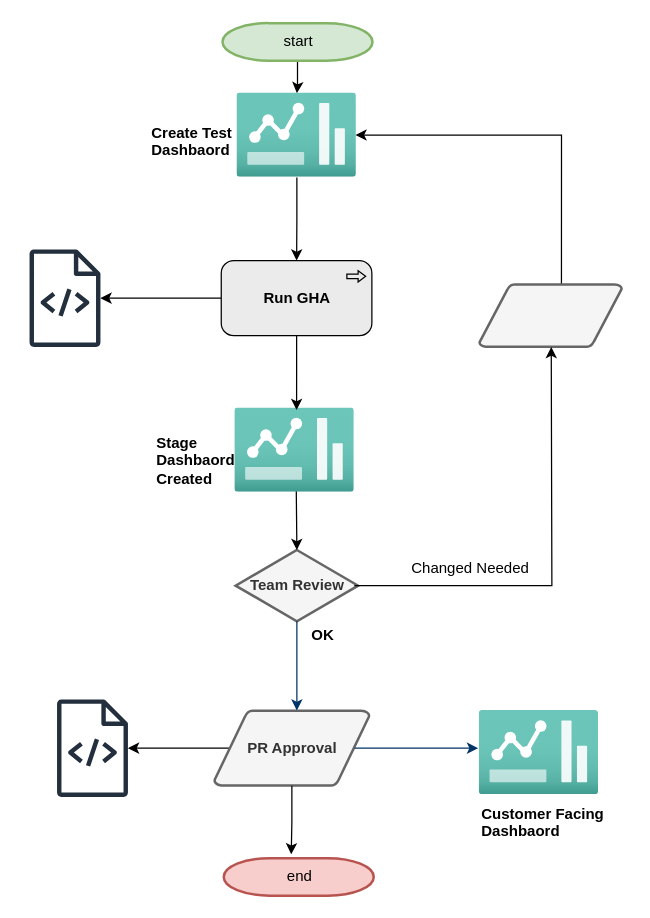
Image size: 650x918. Some labels were removed from this diagram. Here are the shapes that lost their labels. From the top down, the centre of each, then its label:
At (x=64, y=297): "Stage JSON Model".
At (x=550, y=315): "Make Changes".
At (x=92, y=747): "Release Json Model".
